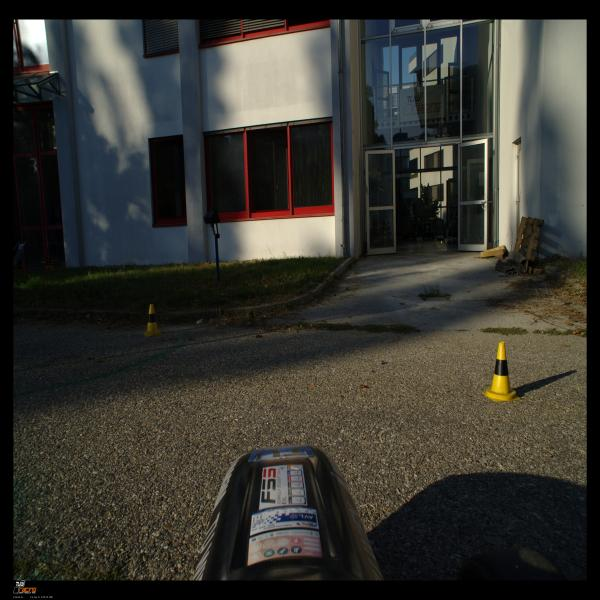yellow_cone: (482, 341, 521, 402), (144, 304, 162, 337)
